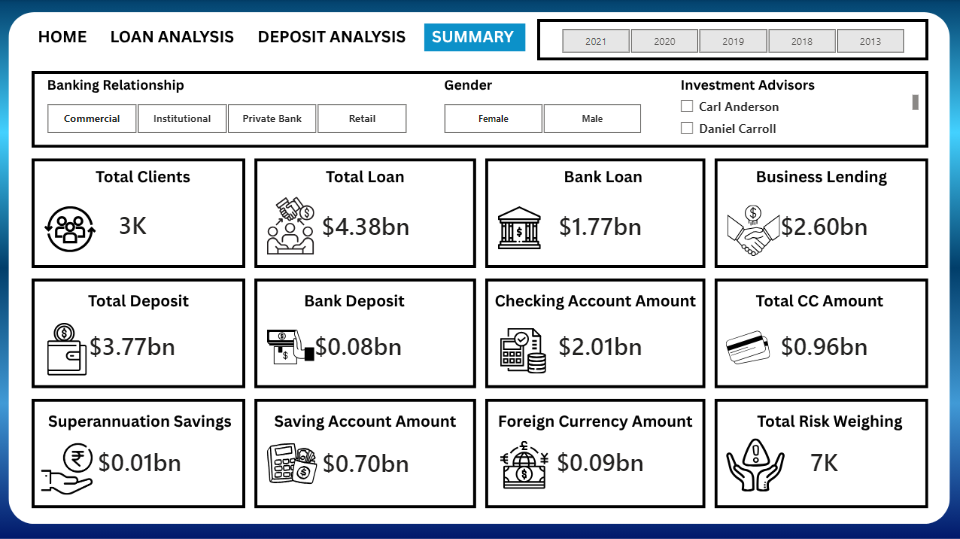

The dashboard page shown, as its layout file describes it:
{"tool":"powerbi","page":{"name":"Summary","canvas":[1280,720],"ordinal":3},"visuals":[{"type":"cardVisual","fields":{"Data":["Sum(Banking_Clients.Saving Accounts)"]},"box":[396,580.3,185.8,66.2],"z":0},{"type":"cardVisual","fields":{"Data":["CountNonNull(Banking_Clients.Name)"]},"box":[75.8,264.5,206,67.8],"z":1000},{"type":"cardVisual","fields":{"Data":["Sum(Banking_Clients.Foreign Currency Account)"]},"box":[698.4,578.9,205.9,67.7],"z":2000},{"type":"cardVisual","fields":{"Data":["Sum(Banking_Clients.Credit Card Balance)"]},"box":[85.1,579.5,206,66.5],"z":3000},{"type":"cardVisual","fields":{"Data":["Sum(Banking_Clients.Checking Accounts)"]},"box":[995,424.8,205.9,67.7],"z":4000},{"type":"cardVisual","fields":{"Data":["Sum(Banking_Clients.Bank Deposits)"]},"box":[698.4,423.4,205.9,69.1],"z":5000},{"type":"cardVisual","fields":{"Data":["Sum(Banking_Clients.Superannuation Savings)"]},"box":[375.8,423.4,205.9,69.1],"z":6000},{"type":"cardVisual","fields":{"Data":["Banking_Clients.Total Deposit"]},"box":[76.3,423.4,205.9,69.1],"z":7000},{"type":"cardVisual","fields":{"Data":["Sum(Banking_Clients.Business Lending)"]},"box":[995,265,205.9,69.1],"z":8000},{"type":"cardVisual","fields":{"Data":["Banking_Clients.Total Loan"]},"box":[386.8,264.5,204.7,69.1],"z":9000},{"type":"cardVisual","fields":{"Data":["Sum(Banking_Clients.Bank Loans)"]},"box":[698.4,266.4,205.9,67.7],"z":10000},{"type":"cardVisual","fields":{"Data":["Sum(Banking_Clients.Risk Weighting)"]},"box":[995,578.9,205.9,67.7],"z":11000},{"type":"slicer","fields":{"Values":["Banking_Clients.BRId"]},"box":[40.3,132.5,527,51.8],"z":12000},{"type":"slicer","fields":{"Values":["Banking_Clients.GenderId"]},"box":[567.4,132.5,311,51.8],"z":13000},{"type":"slicer","fields":{"Values":["Banking_Clients.IAId"]},"box":[894.2,122.4,334.1,61.9],"z":14000},{"type":"actionButton","box":[40.6,32.7,87.7,35.3],"z":15000},{"type":"actionButton","box":[146.9,33.1,167,34.6],"z":16000},{"type":"actionButton","box":[341.3,33.1,200.2,34.6],"z":17000},{"type":"slicer","fields":{"Values":["Banking_Clients.Year of Joining"]},"box":[723.9,32.7,504,44.5],"z":18000}]}

Visuals, with their boxes in screenshot pixels (x1, y1, x2, y2), scaled from the page's 1280x720 canvas onto the 960x539 screenshot:
cardVisual - Sum(Banking_Clients.Saving Accounts): x1=297 y1=434 x2=436 y2=484
cardVisual - CountNonNull(Banking_Clients.Name): x1=57 y1=198 x2=211 y2=249
cardVisual - Sum(Banking_Clients.Foreign Currency Account): x1=524 y1=433 x2=678 y2=484
cardVisual - Sum(Banking_Clients.Credit Card Balance): x1=64 y1=434 x2=218 y2=484
cardVisual - Sum(Banking_Clients.Checking Accounts): x1=746 y1=318 x2=901 y2=369
cardVisual - Sum(Banking_Clients.Bank Deposits): x1=524 y1=317 x2=678 y2=369
cardVisual - Sum(Banking_Clients.Superannuation Savings): x1=282 y1=317 x2=436 y2=369
cardVisual - Banking_Clients.Total Deposit: x1=57 y1=317 x2=212 y2=369
cardVisual - Sum(Banking_Clients.Business Lending): x1=746 y1=198 x2=901 y2=250
cardVisual - Banking_Clients.Total Loan: x1=290 y1=198 x2=444 y2=250
cardVisual - Sum(Banking_Clients.Bank Loans): x1=524 y1=199 x2=678 y2=250
cardVisual - Sum(Banking_Clients.Risk Weighting): x1=746 y1=433 x2=901 y2=484
slicer - Banking_Clients.BRId: x1=30 y1=99 x2=425 y2=138
slicer - Banking_Clients.GenderId: x1=426 y1=99 x2=659 y2=138
slicer - Banking_Clients.IAId: x1=671 y1=92 x2=921 y2=138
actionButton: x1=30 y1=24 x2=96 y2=51
actionButton: x1=110 y1=25 x2=235 y2=51
actionButton: x1=256 y1=25 x2=406 y2=51
slicer - Banking_Clients.Year of Joining: x1=543 y1=24 x2=921 y2=58
